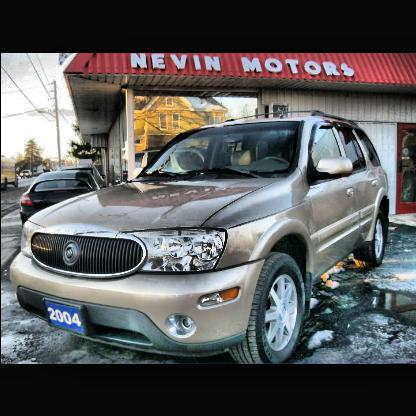Buick Rainier SUV 2007: (10, 112, 393, 365)
